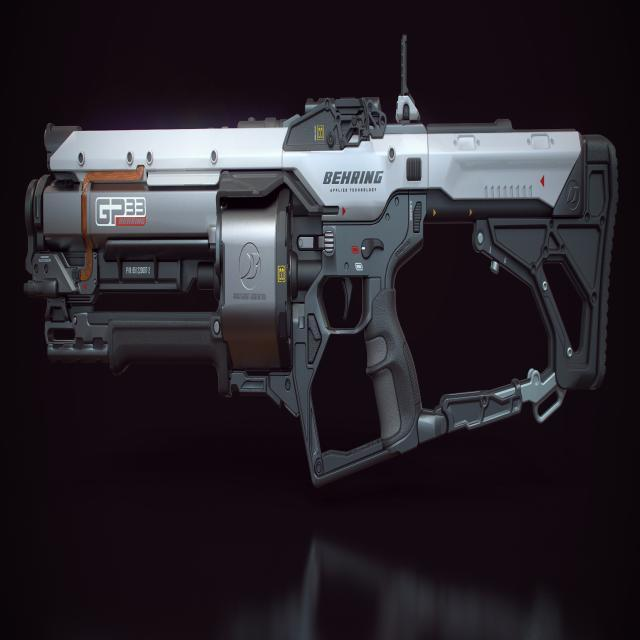rifle: (22, 23, 619, 486)
